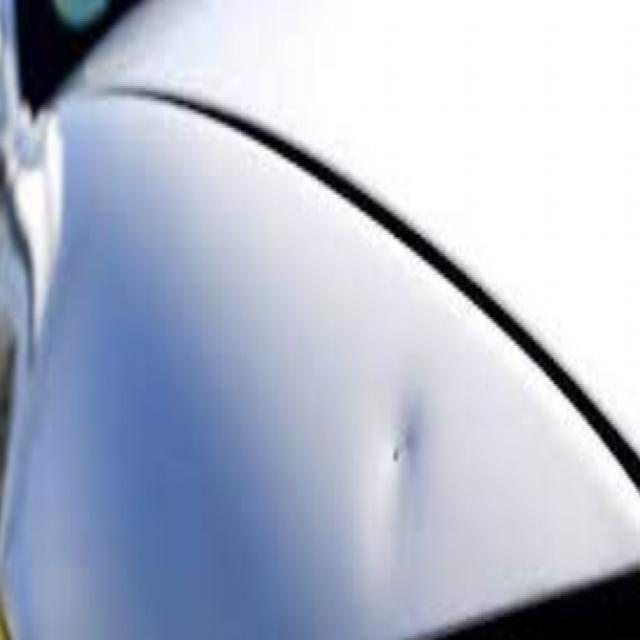dents: (369, 366, 448, 535)
